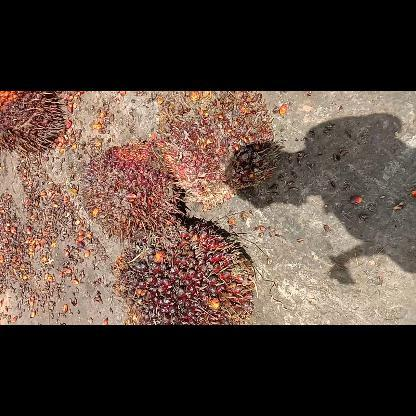Kurang masak: (159, 92, 277, 210)
TBS masak: (114, 215, 258, 323), (86, 142, 183, 236)
